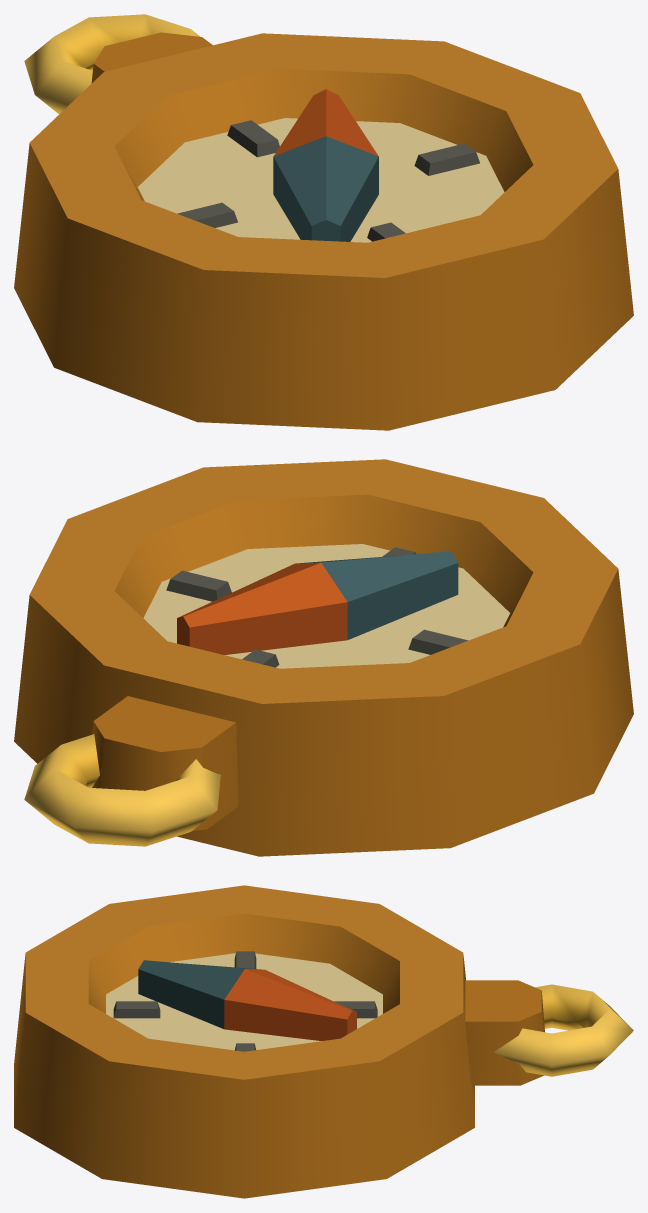
Rendered from SM_Compass.fbx.
The picture shows the model from 3 angles, top to bottom: view 1: azimuth 30°, elevation 25°; view 2: azimuth 150°, elevation 25°; view 3: azimuth 270°, elevation 25°; orthographic projection. The views are drawn at different scales.
Parts seen in each view (by area): view 1: SM_Compass; view 2: SM_Compass; view 3: SM_Compass.
Boxes of the visible parts, x1,y1,x2,y2 form: SM_Compass: (14,14,633,430); SM_Compass: (14,459,633,856); SM_Compass: (14,885,633,1198).
Bounding box in the file's own units: 11.53 × 3.36 × 14.75.
